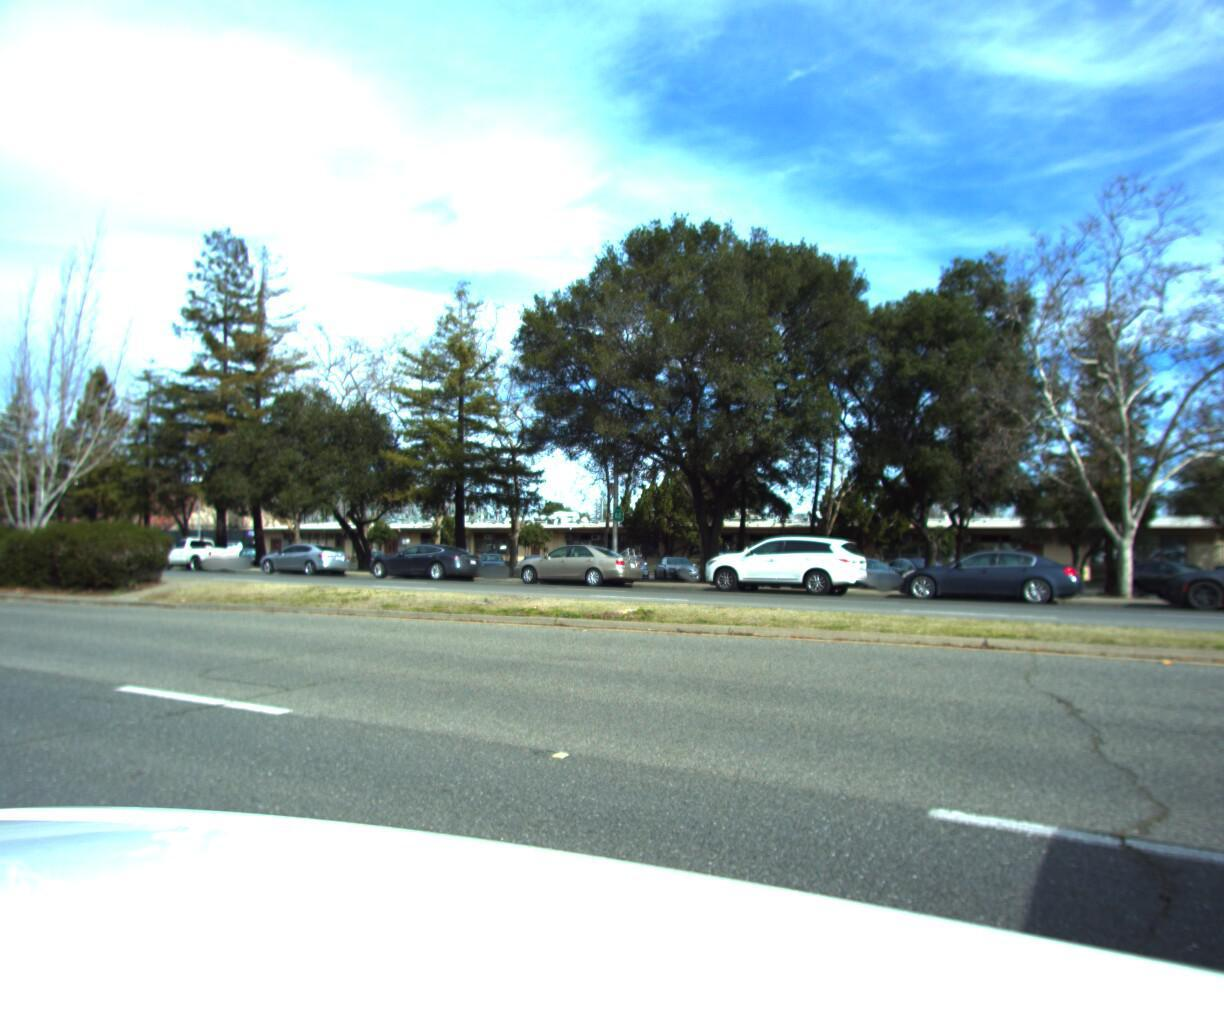car: (886, 540, 1084, 606), (692, 529, 870, 599), (504, 537, 648, 588), (363, 536, 489, 582), (1153, 541, 1224, 620), (250, 535, 355, 575), (152, 530, 245, 569)
